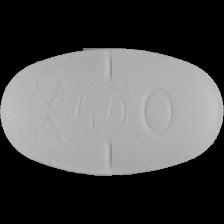0093-4443: (0, 0, 224, 224)
